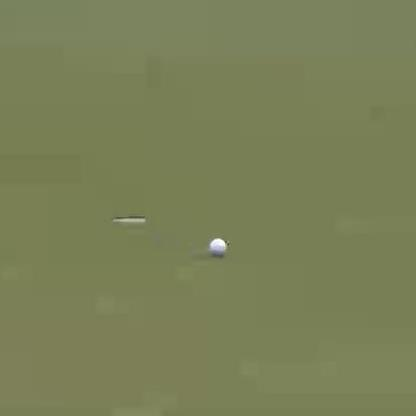golfball: (206, 236, 225, 257)
